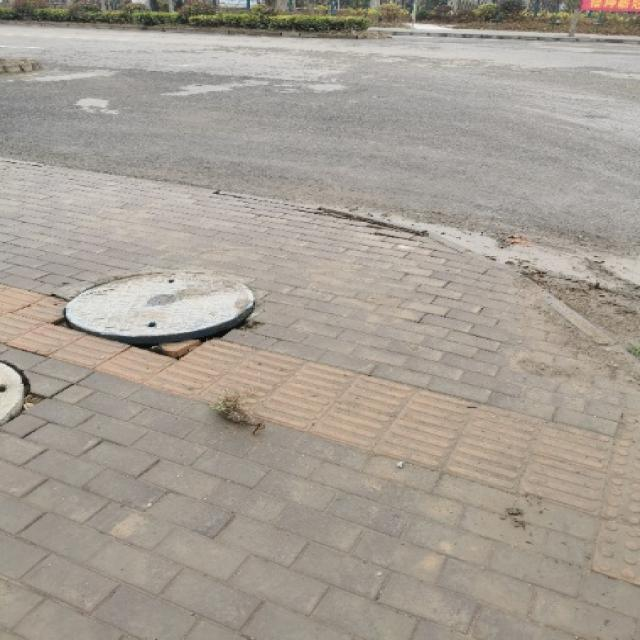Faulty: (42, 251, 286, 372)
